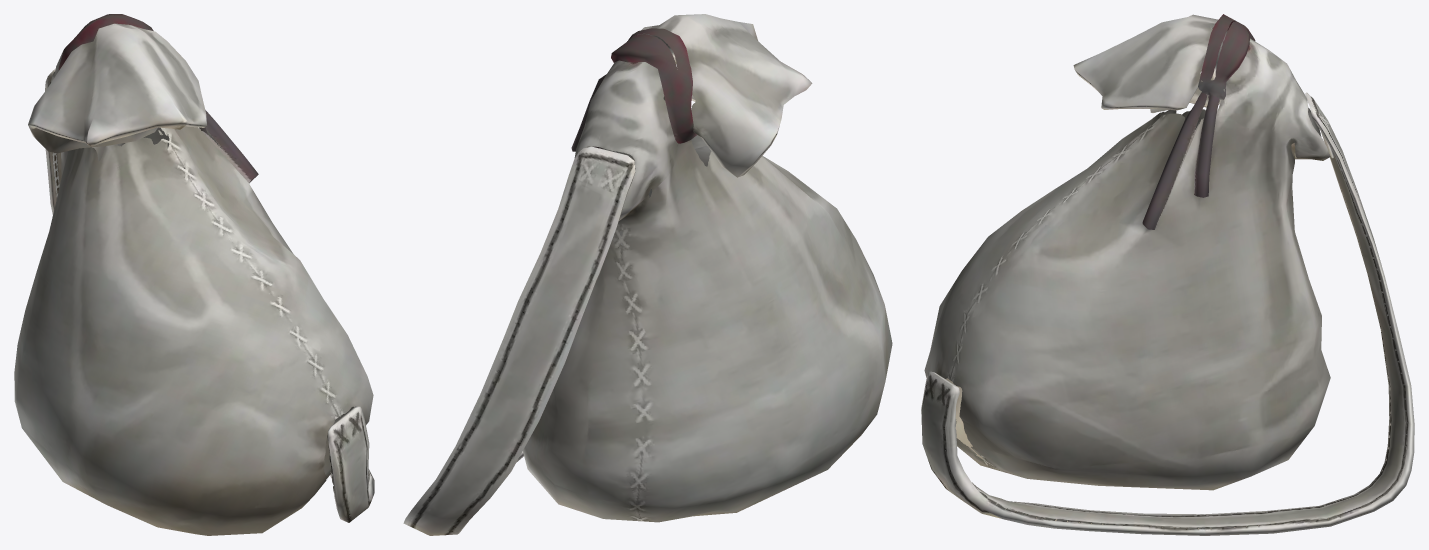
3 renders of one model, left to right at view 1: azimuth 30°, elevation 25°; view 2: azimuth 150°, elevation 25°; view 3: azimuth 270°, elevation 25°, orthographic. The views are drawn at different scales.
Parts seen in each view (by area): view 1: SM_Silver_Napsack_01_LOD0; view 2: SM_Silver_Napsack_01_LOD0; view 3: SM_Silver_Napsack_01_LOD0.
Part boxes in pixels (bbox=[...]): SM_Silver_Napsack_01_LOD0: bbox=[14, 14, 374, 535]; SM_Silver_Napsack_01_LOD0: bbox=[403, 14, 892, 535]; SM_Silver_Napsack_01_LOD0: bbox=[921, 14, 1414, 535].
Size of the model in its own units: 0.2648 by 0.3751 by 0.3838.
Materials: 1 (1 with a texture image).
